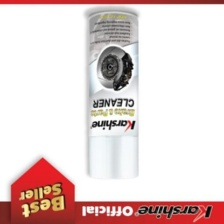aerosol_cans: (83, 7, 141, 182)
